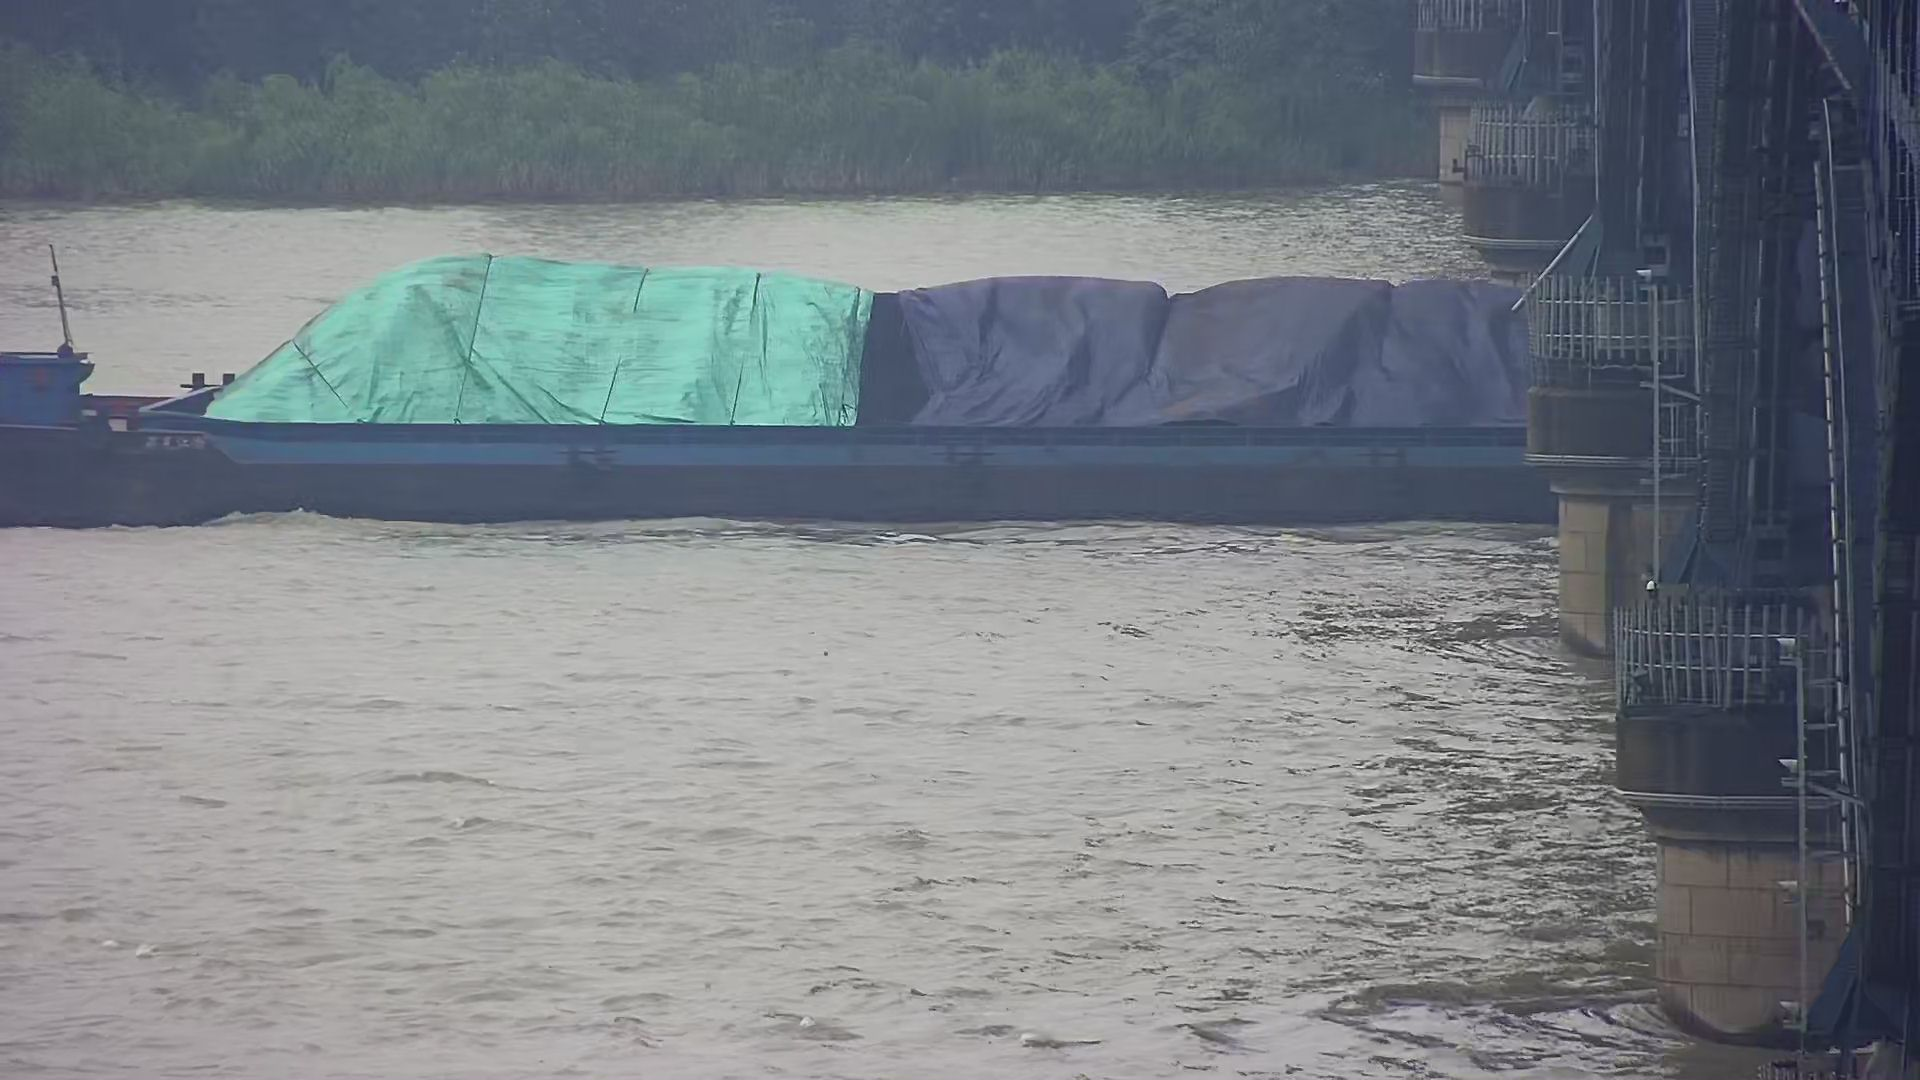bridge: (1414, 4, 1920, 1056)
ship: (1, 240, 1553, 524)
